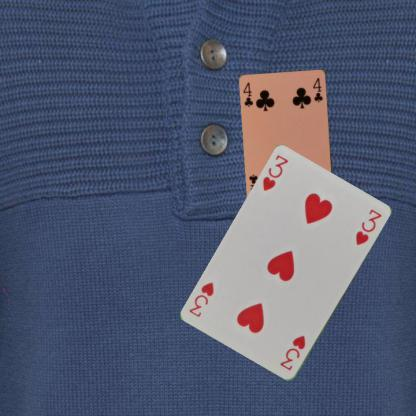3h: (260, 153, 290, 193), (277, 333, 307, 372)
4c: (241, 80, 254, 108)
